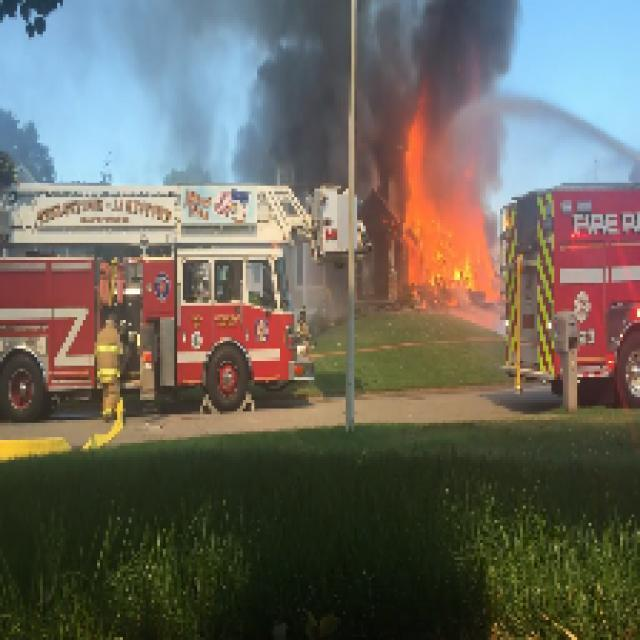Fire: (391, 83, 503, 306)
Smoke: (114, 3, 520, 200)
